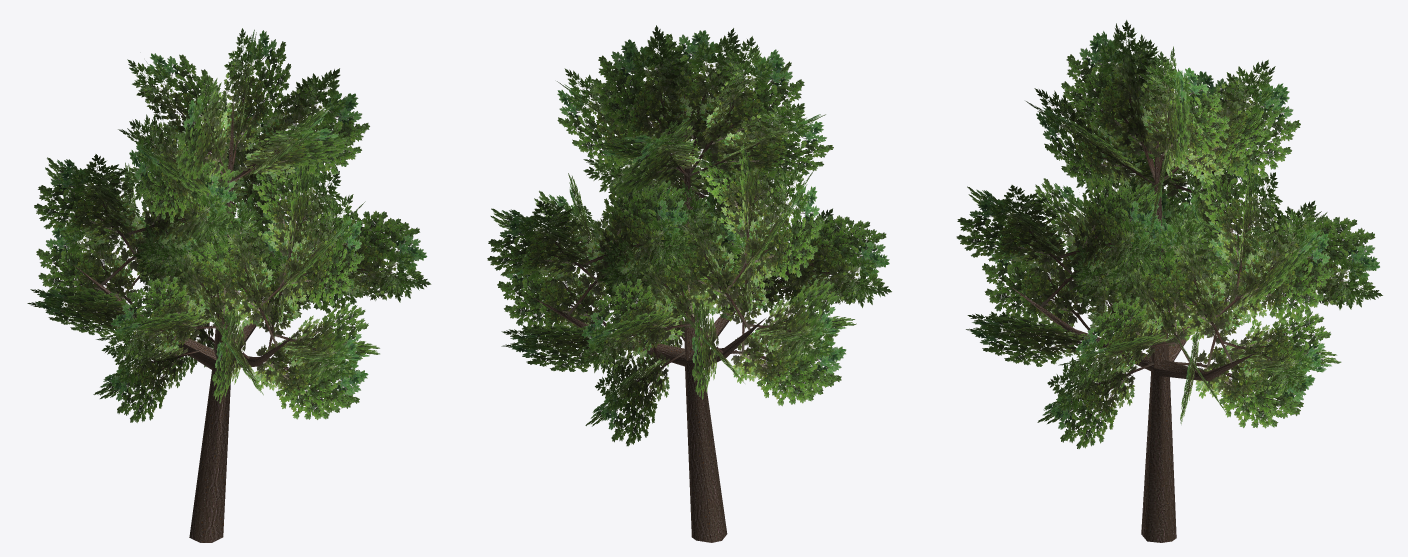
Rendered from mapleTree.dae.
The picture shows the model from 3 angles, left to right: view 1: azimuth 30°, elevation 25°; view 2: azimuth 150°, elevation 25°; view 3: azimuth 270°, elevation 25°; orthographic projection. The views are drawn at different scales.
Parts seen in each view (by area): view 1: MapleTree; view 2: MapleTree; view 3: MapleTree.
Part boxes in pixels (x1=…): MapleTree: x1=27, y1=28, x2=431, y2=542; MapleTree: x1=487, y1=25, x2=891, y2=542; MapleTree: x1=956, y1=20, x2=1382, y2=542.
Bounding box in the file's own units: 1.55 × 1.96 × 1.58.
Materials: 1 (1 with a texture image).
